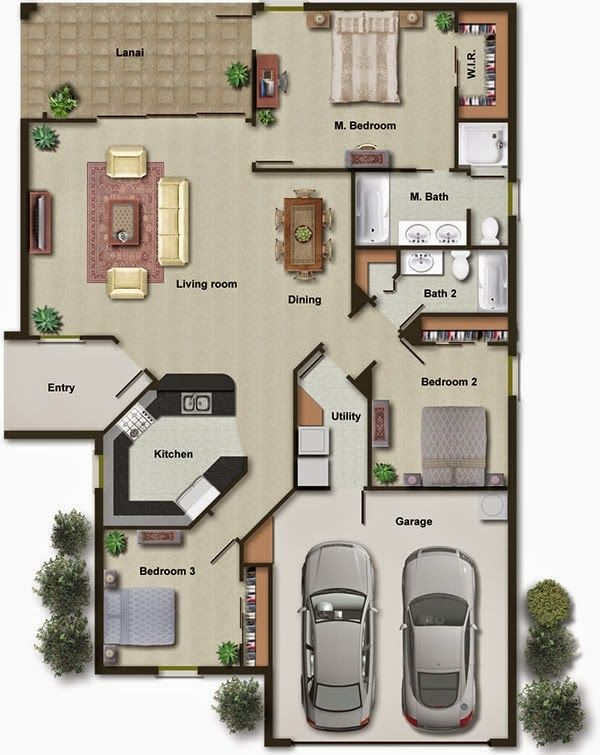room: (20, 113, 311, 343), (254, 2, 519, 174), (252, 1, 517, 172), (93, 364, 298, 531), (366, 313, 522, 493), (92, 523, 274, 675), (347, 165, 516, 250), (350, 243, 517, 317)
